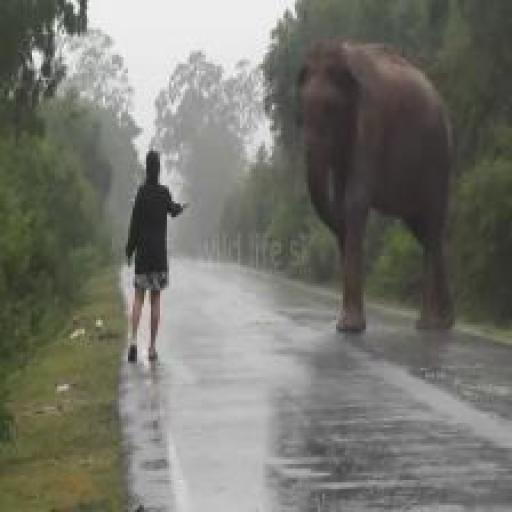Elephant: (281, 9, 484, 389)
